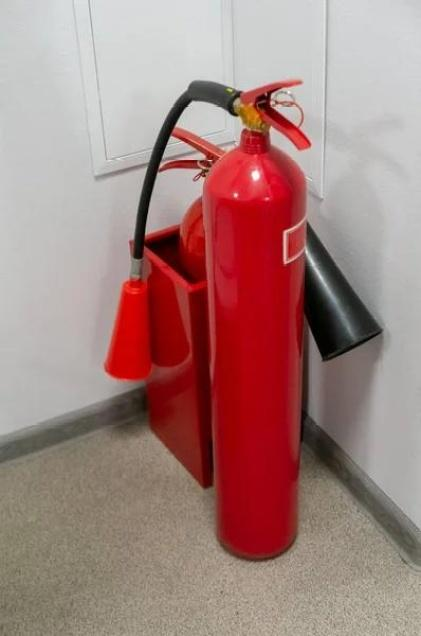APAR: (203, 75, 311, 561)
